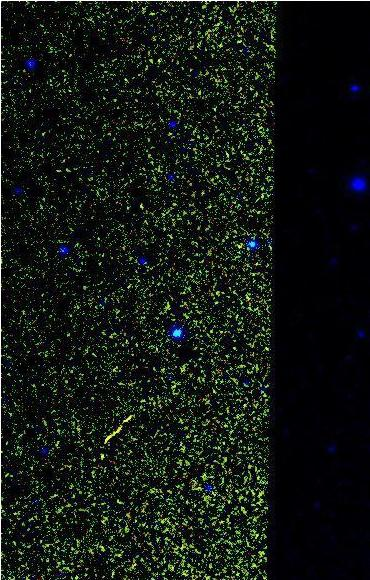star: (86, 443, 116, 473)
